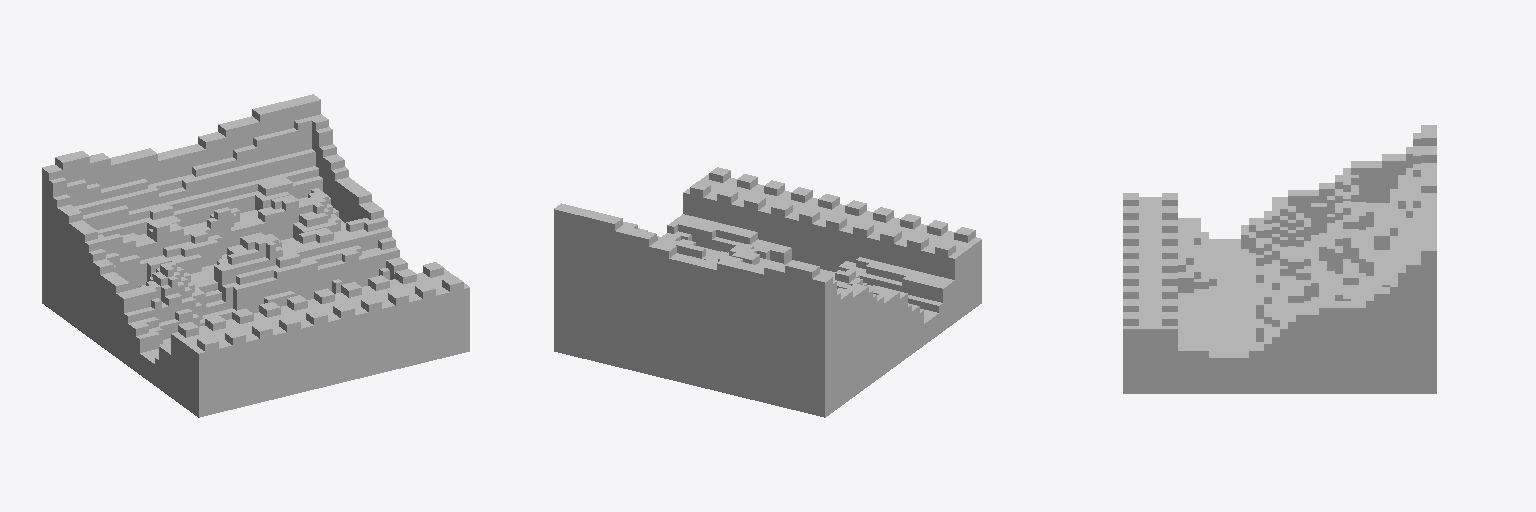
The model's file is Map.obj.
3 renders of one model, left to right at view 1: azimuth 30°, elevation 25°; view 2: azimuth 150°, elevation 25°; view 3: azimuth 270°, elevation 25°, orthographic.
Parts seen in each view (by area): view 1: object 1; view 2: object 1; view 3: object 1.
Boxes of the visible parts, box(x1,y1,x2,y2) form: object 1: box(42, 94, 469, 417); object 1: box(554, 167, 981, 417); object 1: box(1123, 125, 1436, 393).
Bounding box in the file's own units: 4 × 2 × 4.